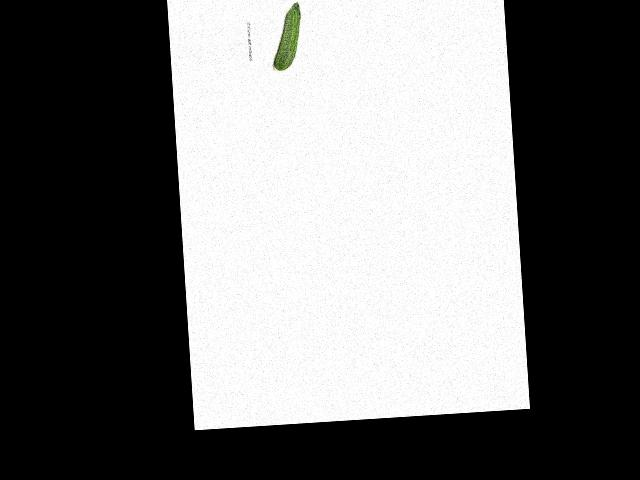cucumber: (270, 1, 303, 70)
